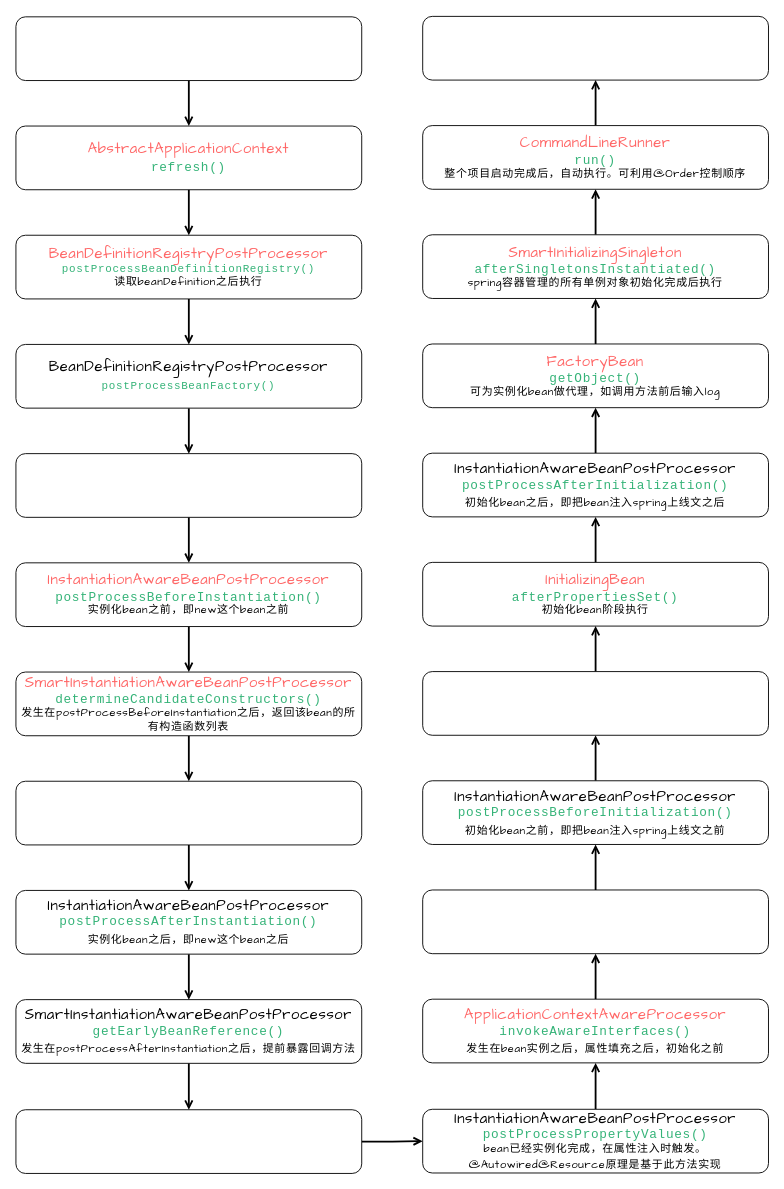
Some shapes in this 784 by 1189 pixel diagram are drawn without their labels. Each missing label, with the centre of its shape:
@PostConstruct 在bean初始阶段触发，在afterPropertiesSet之前: (x=595, y=703)
ApplicationContextInitializer initialize() 容器初始化之前执行: (x=188, y=48)
BeanFactoryAware setBeanFactory() 发生在bean实例化之后，属性注入之前。即Setter之前: (x=188, y=1141)
BeanFactoryPostProcessor postProcessBeanFactory() 读取beanDefinition信息之后，实例化bean之前: (x=188, y=485)
BeanNameAware setBeanName() 在bean初始化之前: (x=595, y=921)
DisposableBean destory() 触发时机未当前对象销毁时，自动执行: (x=595, y=47)
MergedBeanDefinitionPostProcessor postProcessMergedBeanDefinition(): (x=188, y=812)
